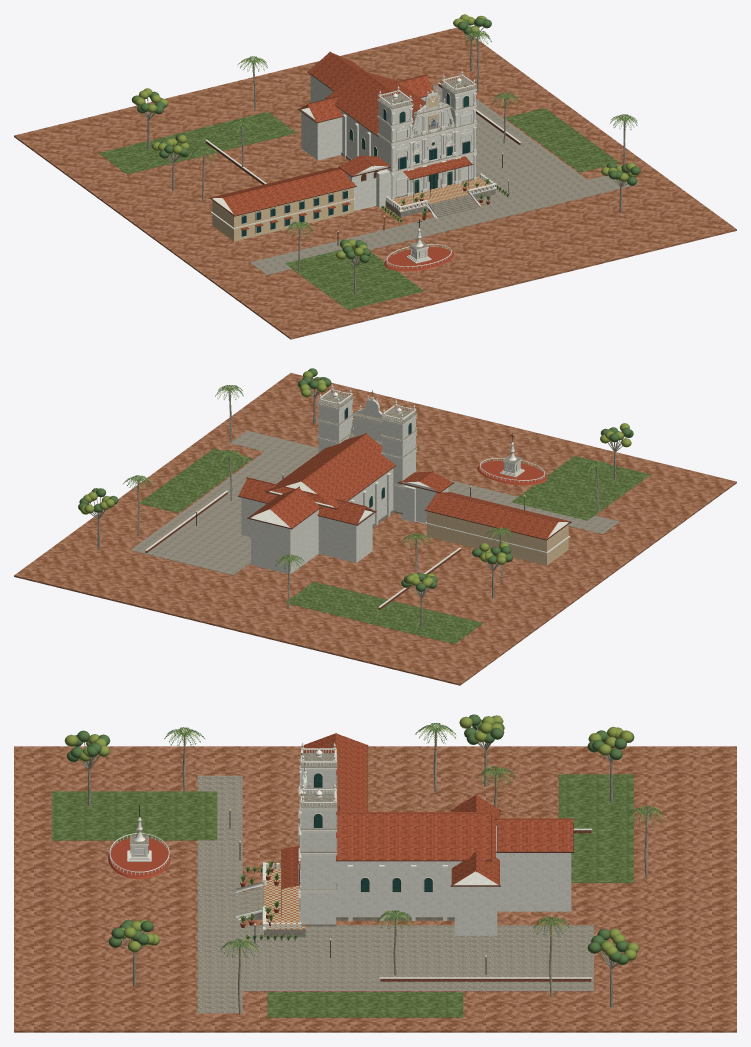
File: Holy-Spirit-Church-Margao.glb
3 views of the same model, one above another, from view 1: azimuth 30°, elevation 25°; view 2: azimuth 150°, elevation 25°; view 3: azimuth 270°, elevation 25° (orthographic). The views are drawn at different scales.
Parts seen in each view (by area): view 1: Grounds / square and paths (×3), Adjoining structures / arch link and parish block (×4), Grounds / tropical planting (×3), Church / twin bell towers (×3), Church / terracotta roof, Church / five-bay facade (×2), Church / nave and chancel, Entrance / raised terrace and eight steps (×3), Grounds / monumental cross (×2), Entrance / canopy; view 2: Grounds / square and paths (×3), Adjoining structures / arch link and parish block (×3), Church / nave and chancel, Church / terracotta roof, Grounds / tropical planting (×3), Church / twin bell towers (×3), Grounds / monumental cross (×2), Church / five-bay facade; view 3: Grounds / square and paths (×4), Church / nave and chancel, Church / terracotta roof (×2), Grounds / tropical planting (×3), Church / twin bell towers (×3), Adjoining structures / arch link and parish block, Entrance / raised terrace and eight steps (×2), Grounds / monumental cross (×2), Entrance / canopy.
Boxes of the visible parts, left/top/right/bottom form: Grounds / square and paths (×3): left=14, top=27, right=736, bottom=339; Adjoining structures / arch link and parish block (×4): left=210, top=155, right=391, bottom=241; Grounds / tropical planting (×3): left=131, top=14, right=640, bottom=294; Church / twin bell towers (×3): left=377, top=71, right=477, bottom=199; Church / terracotta roof: left=299, top=51, right=434, bottom=135; Church / five-bay facade (×2): left=406, top=89, right=461, bottom=196; Church / nave and chancel: left=301, top=75, right=426, bottom=160; Entrance / raised terrace and eight steps (×3): left=385, top=173, right=496, bottom=217; Grounds / monumental cross (×2): left=384, top=228, right=454, bottom=271; Entrance / canopy: left=403, top=156, right=471, bottom=179; Grounds / square and paths (×3): left=14, top=373, right=736, bottom=685; Adjoining structures / arch link and parish block (×3): left=399, top=471, right=569, bottom=565; Church / nave and chancel: left=241, top=468, right=393, bottom=574; Church / terracotta roof: left=238, top=432, right=395, bottom=528; Grounds / tropical planting (×3): left=78, top=368, right=633, bottom=628; Church / twin bell towers (×3): left=317, top=384, right=417, bottom=514; Grounds / monumental cross (×2): left=477, top=442, right=547, bottom=485; Church / five-bay facade: left=348, top=399, right=383, bottom=441; Grounds / square and paths (×4): left=14, top=746, right=736, bottom=1032; Church / nave and chancel: left=336, top=825, right=571, bottom=935; Church / terracotta roof (×2): left=336, top=794, right=573, bottom=886; Grounds / tropical planting (×3): left=64, top=714, right=666, bottom=1013; Church / twin bell towers (×3): left=298, top=742, right=337, bottom=926; Adjoining structures / arch link and parish block: left=304, top=733, right=367, bottom=811; Entrance / raised terrace and eight steps (×2): left=239, top=867, right=305, bottom=937; Grounds / monumental cross (×2): left=108, top=817, right=170, bottom=878; Entrance / canopy: left=282, top=845, right=300, bottom=888.
Size of the model in its own units: 134 by 32.31 by 144.
21 materials, 13 textured.
